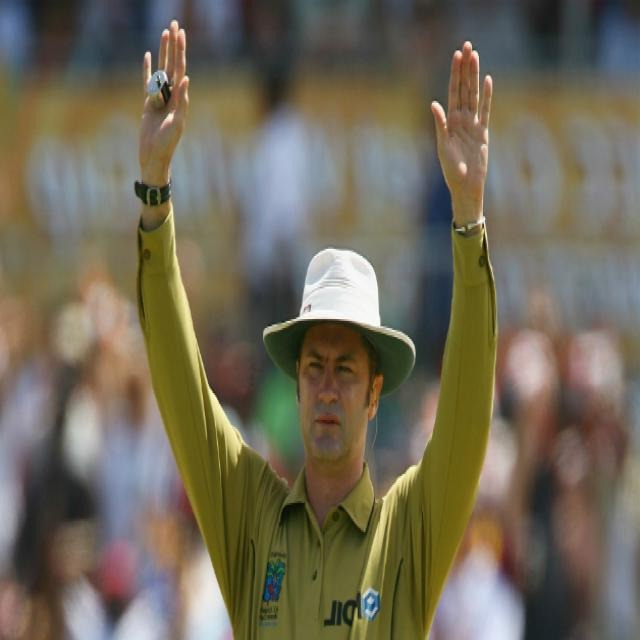Six: (127, 14, 509, 640)
